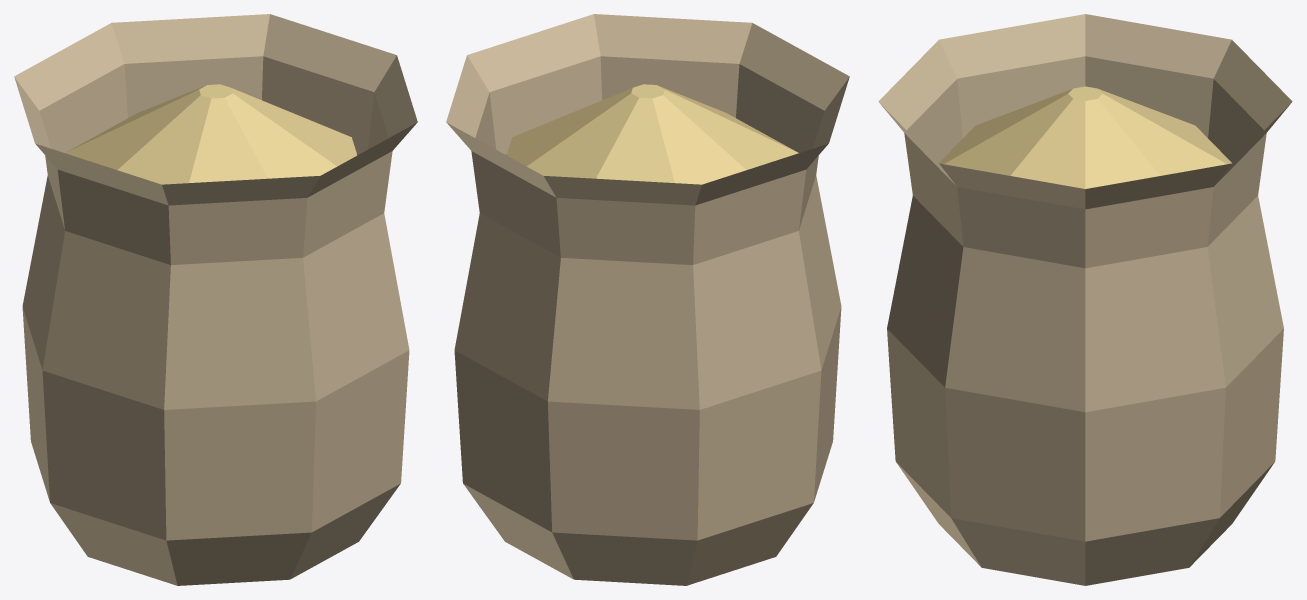
Rendered from prop-grain-sack-open-ml1.fbx.
3 renders of one model, left to right at view 1: azimuth 30°, elevation 25°; view 2: azimuth 150°, elevation 25°; view 3: azimuth 270°, elevation 25°, orthographic.
Visible parts, largest first — view 1: prop-grain-sack-open-ml1; view 2: prop-grain-sack-open-ml1; view 3: prop-grain-sack-open-ml1.
Part boxes in pixels (<box>): prop-grain-sack-open-ml1: <box>14,14,417,585</box>; prop-grain-sack-open-ml1: <box>446,14,849,585</box>; prop-grain-sack-open-ml1: <box>878,14,1292,585</box>.
Bounding box in the file's own units: 48 × 55 × 48.
